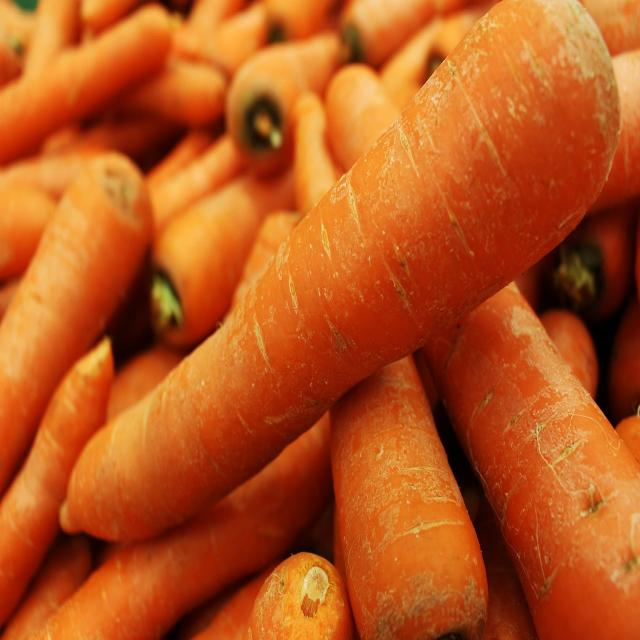carrot: (59, 0, 619, 527), (327, 67, 640, 640), (290, 99, 488, 640), (7, 155, 147, 496), (226, 39, 338, 170)
